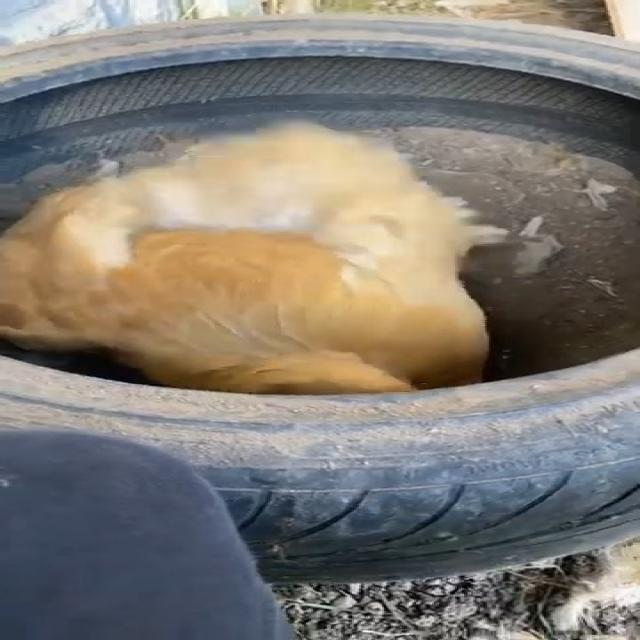stand bath: (0, 118, 558, 426)
